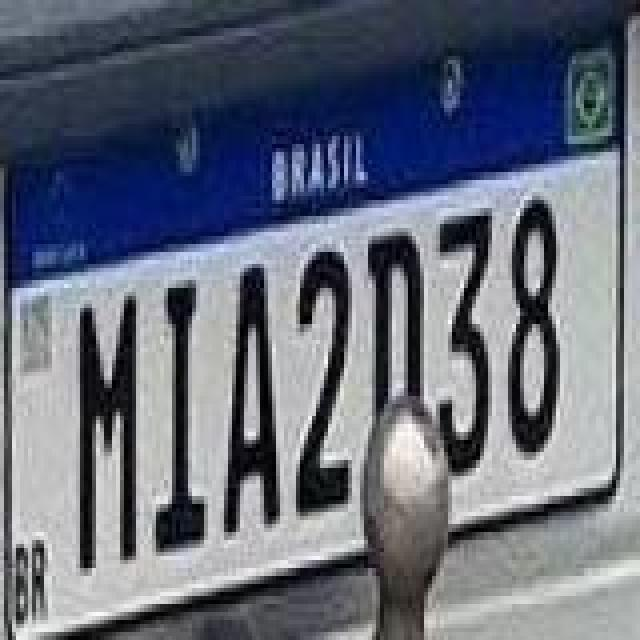2: (294, 246, 354, 522)
3: (436, 206, 492, 482)
8: (508, 194, 564, 462)
A: (222, 264, 282, 536)
D: (366, 226, 426, 430)
I: (154, 276, 206, 556)
M: (78, 292, 138, 572)
